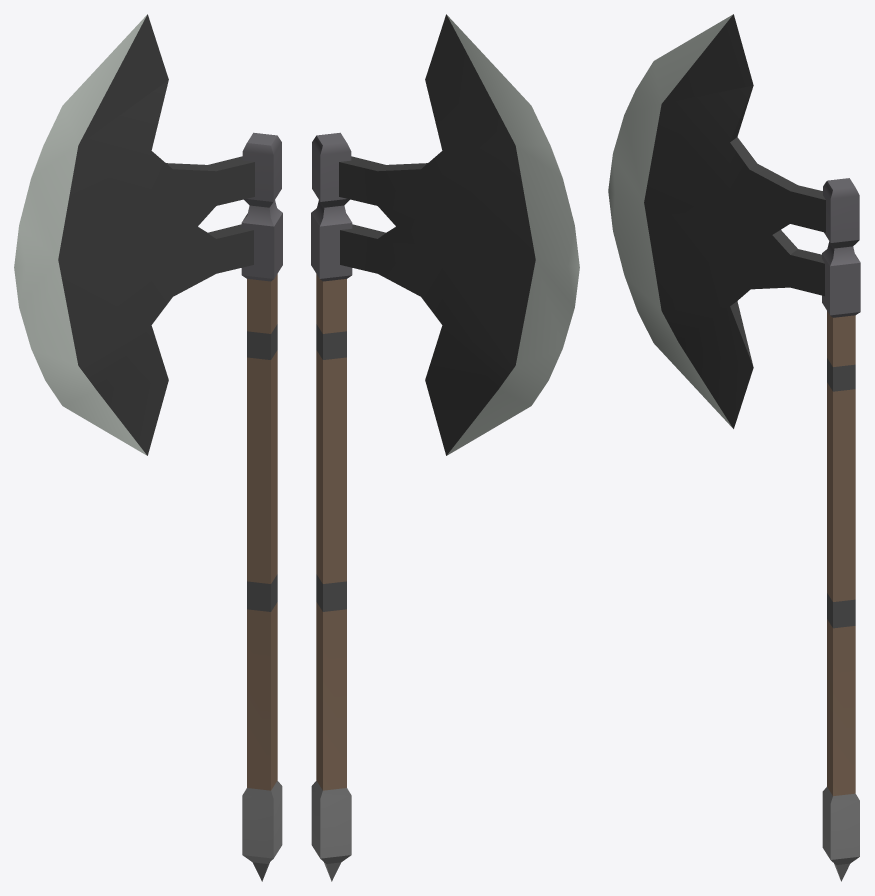
Rendered from Axe_9.fbx.
3 views of the same model, side by side, from view 1: azimuth 30°, elevation 25°; view 2: azimuth 150°, elevation 25°; view 3: azimuth 330°, elevation 25° (orthographic). The views are drawn at different scales.
Parts seen in each view (by area): view 1: polySurface202; view 2: polySurface202; view 3: polySurface202.
Part boxes in pixels (left/top/right/bottom): polySurface202: left=14, top=14, right=282, bottom=881; polySurface202: left=311, top=14, right=579, bottom=881; polySurface202: left=608, top=14, right=860, bottom=881.
Size of the model in its own units: 114 by 364 by 17.59.
